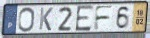2: (58, 6, 74, 32)
6: (115, 5, 130, 30)
E: (74, 4, 95, 33)
F: (93, 5, 115, 32)
K: (38, 7, 54, 32)
O: (17, 7, 36, 33)
